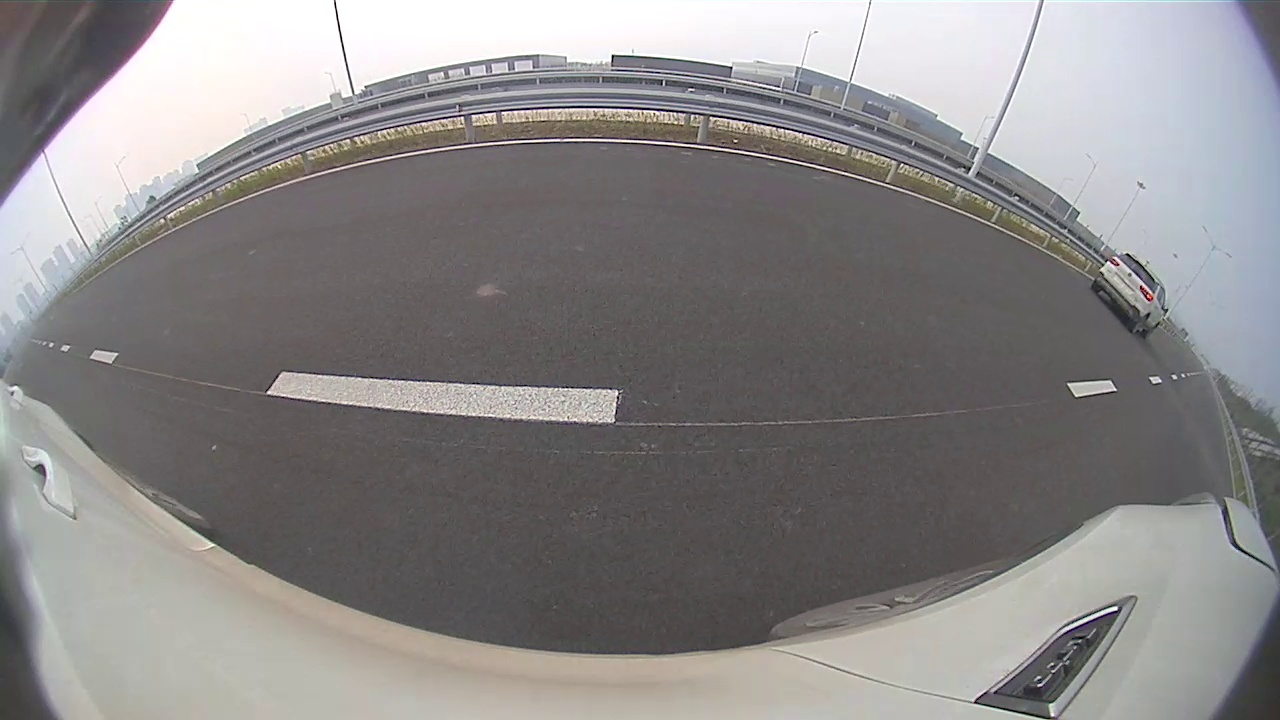car: (1031, 212, 1278, 432)
front: (1051, 263, 1127, 348)
